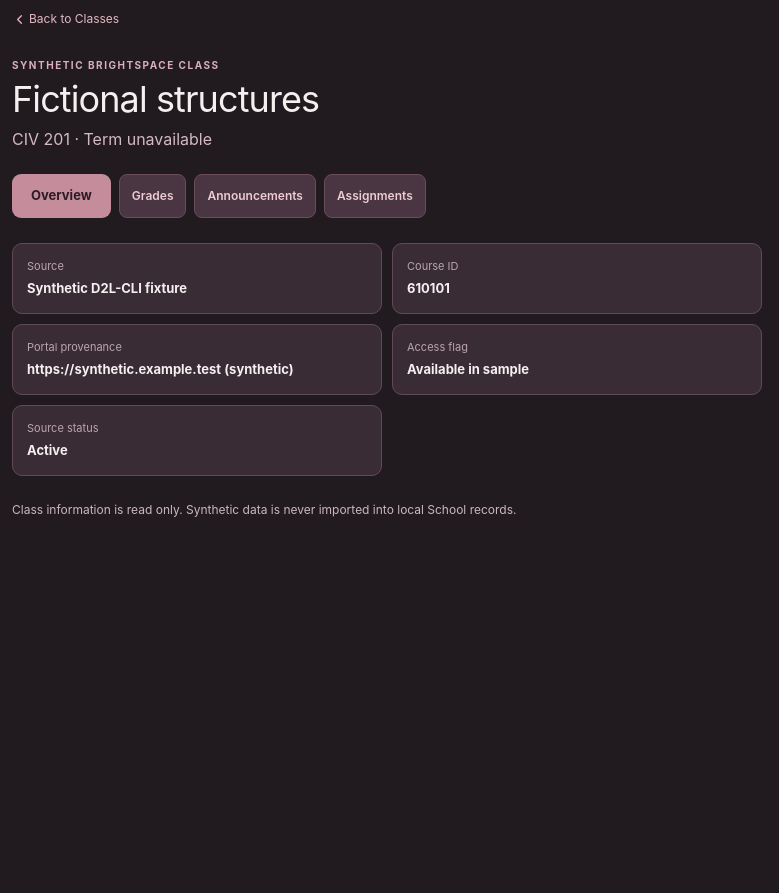
Test case: keeps grade display strings exact and treats blank values as unknown, with ephemeral row identity
This screenshot has width=779, height=893.
Click the button "Grades" at [153, 196], box x1=119 y1=174 x2=186 y2=218
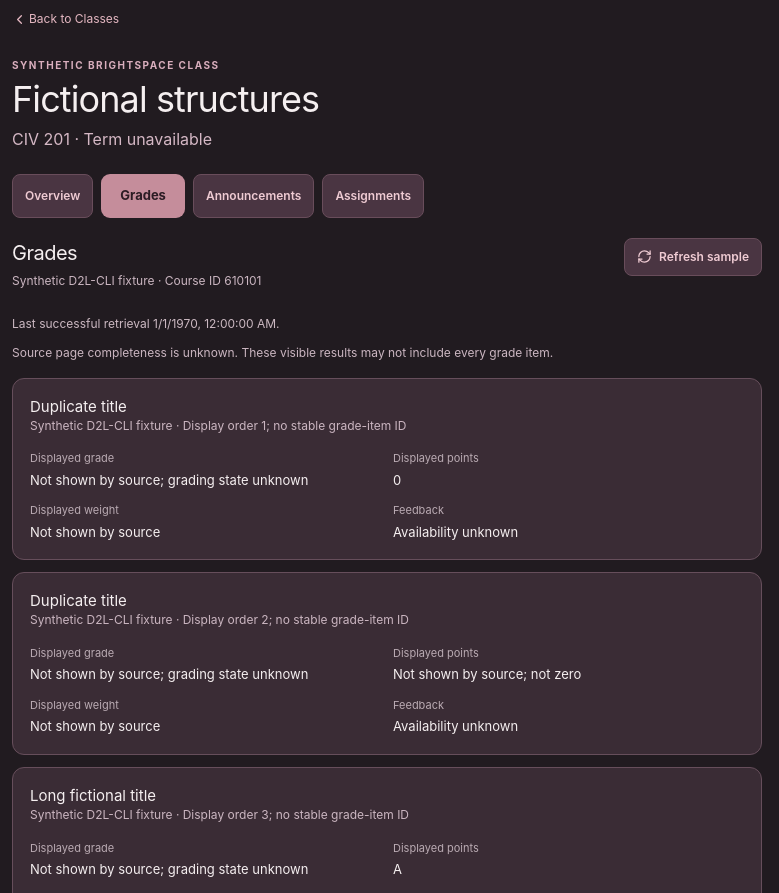
Expected: the number of headings "Duplicate title" is 2, x1=30 y1=397 x2=127 y2=416; x1=30 y1=591 x2=127 y2=610
Expected: the text "0" is shown, x1=393 y1=472 x2=401 y2=488
Expected: the text "Not shown by source; not zero" is shown, x1=393 y1=666 x2=581 y2=682
